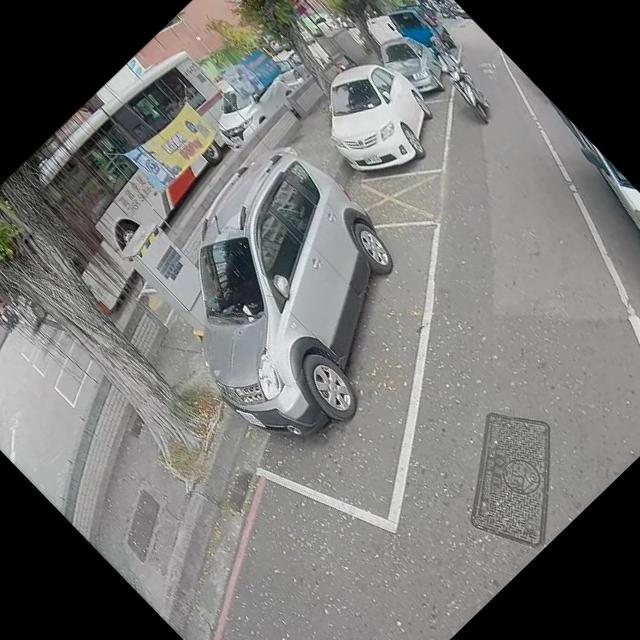person: (418, 33, 501, 118), (0, 289, 20, 330)
